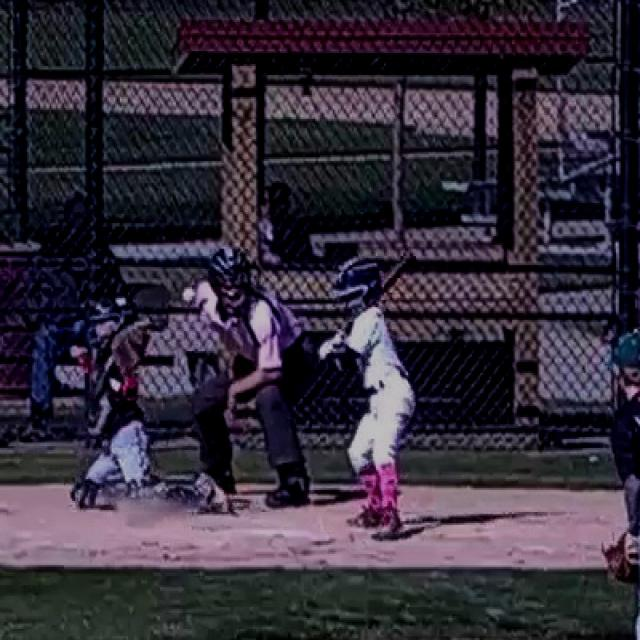baseball: (182, 288, 195, 302)
